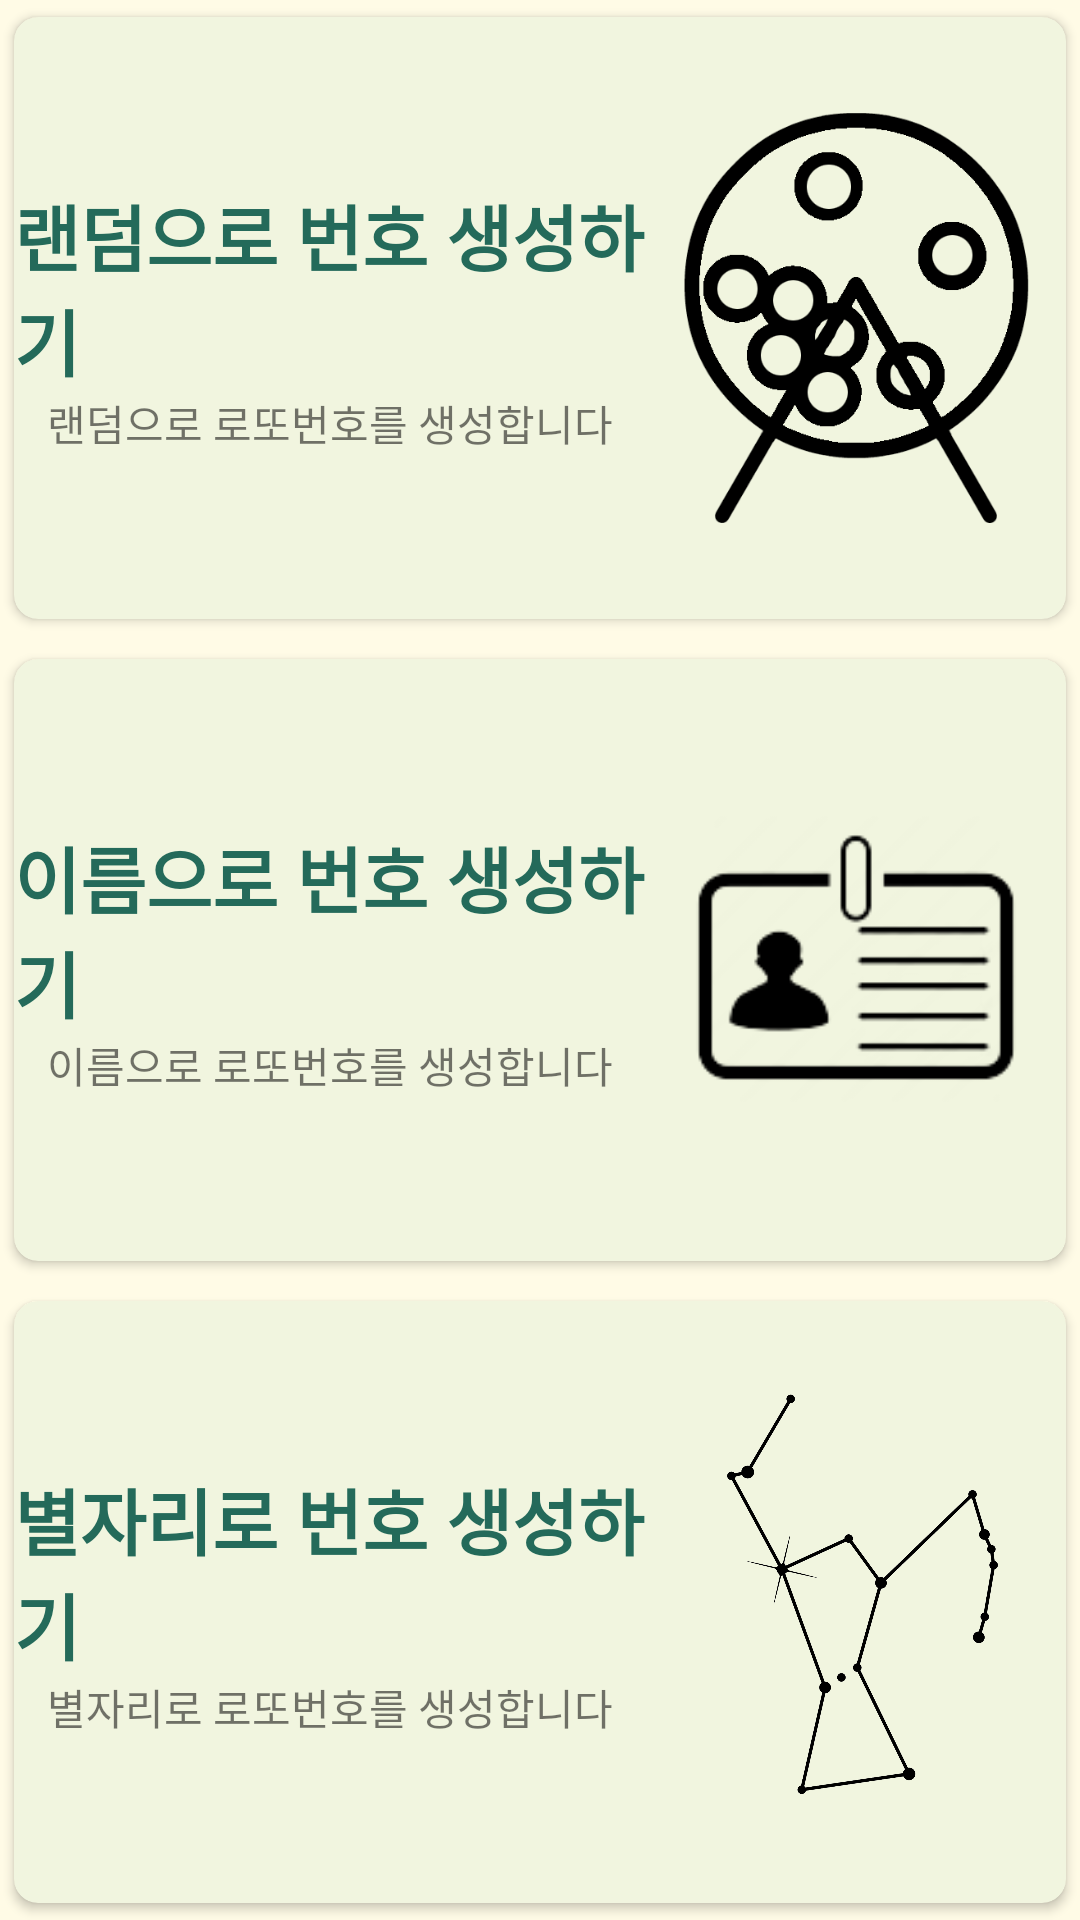

Icons on this 1080*1920 Android screen, each with the point to tap as (x=x, y=y):
name tag: (x=856, y=957)
